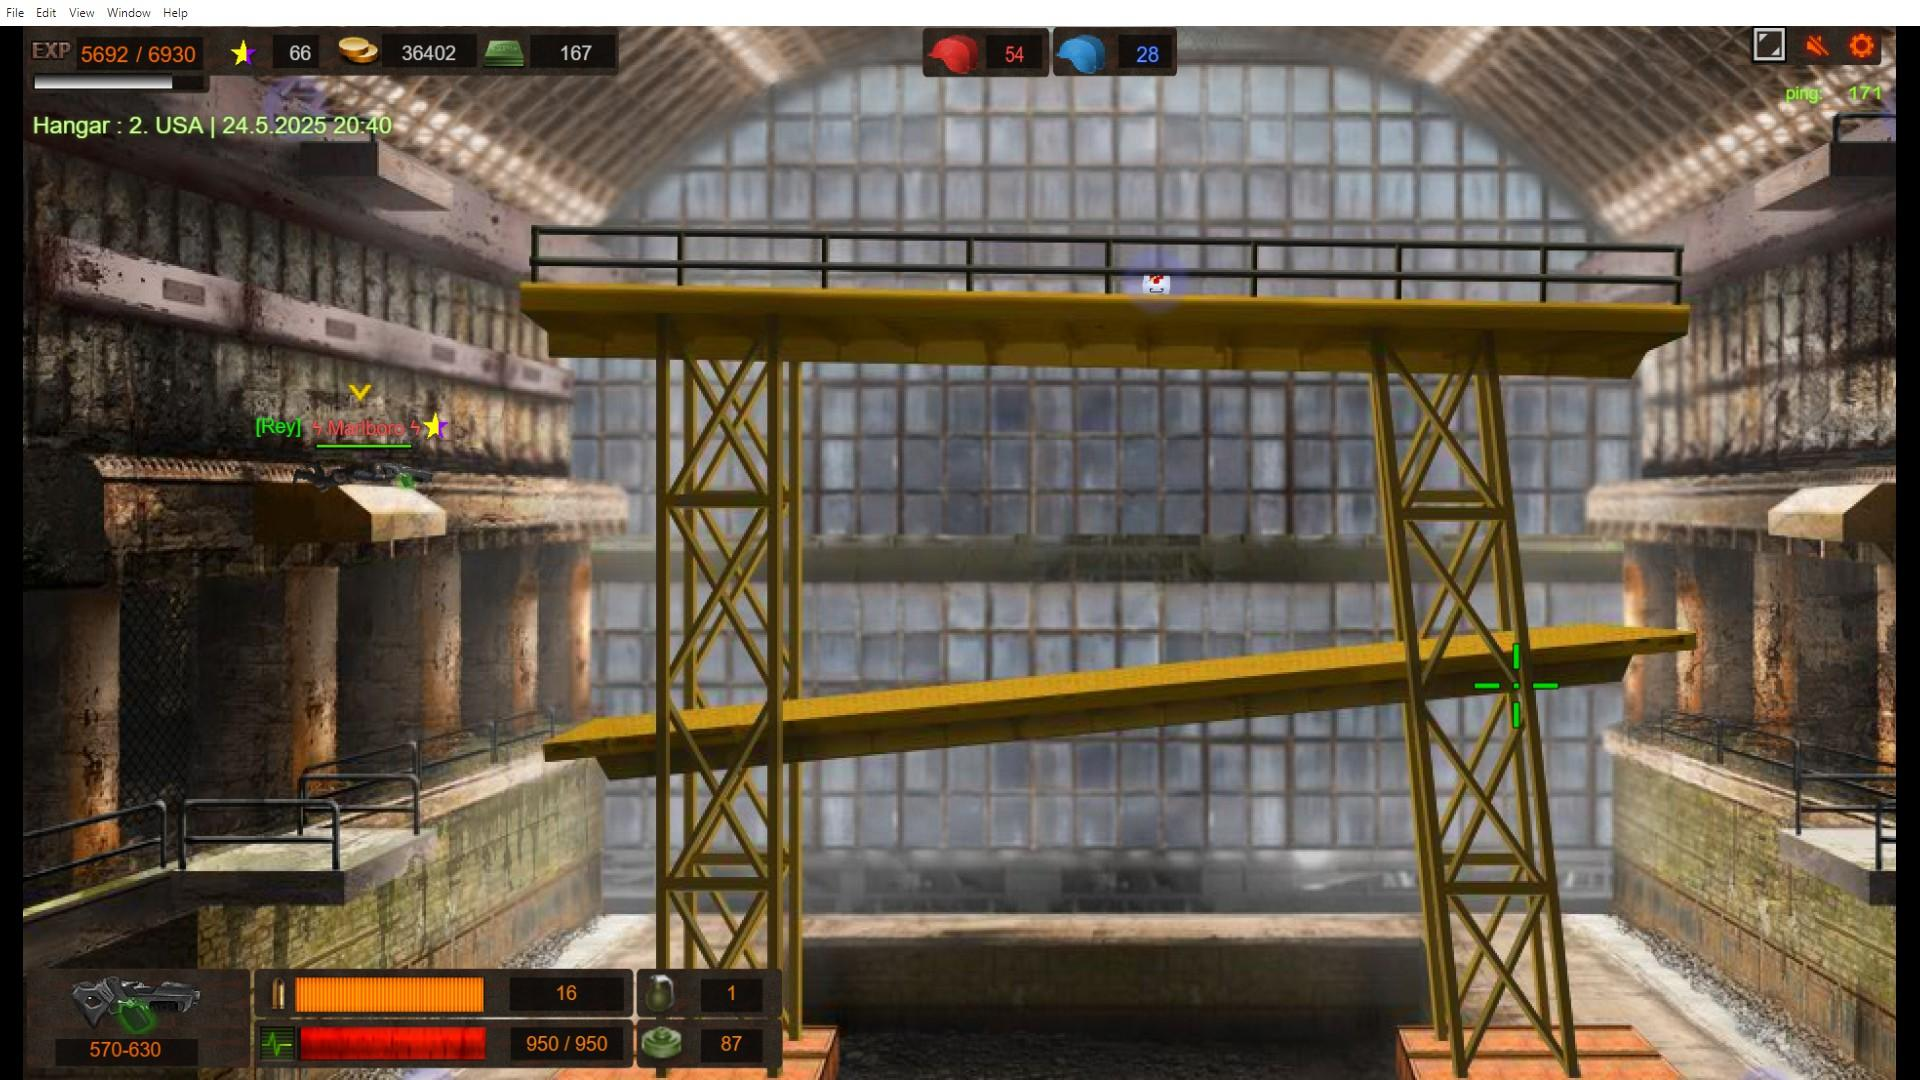enemy: (301, 463, 389, 487)
